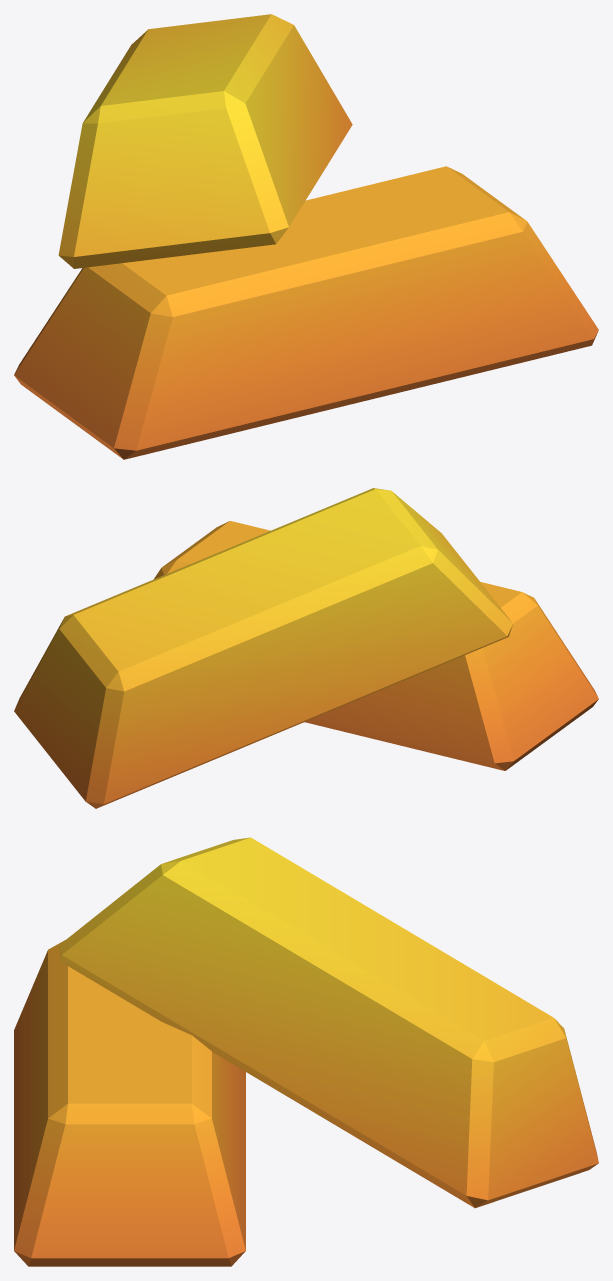
The model's file is Gold_bar.fbx.
The picture shows the model from 3 angles, top to bottom: view 1: azimuth 30°, elevation 25°; view 2: azimuth 150°, elevation 25°; view 3: azimuth 270°, elevation 25°; orthographic projection. The views are drawn at different scales.
Visible parts, largest first — view 1: Gold_bar; view 2: Gold_bar; view 3: Gold_bar.
Boxes of the visible parts, left/top/right/bottom form: Gold_bar: left=14, top=14, right=598, bottom=459; Gold_bar: left=14, top=488, right=598, bottom=808; Gold_bar: left=14, top=837, right=598, bottom=1266.
Bounding box in the file's own units: 76.22 × 40.37 × 80.56.
